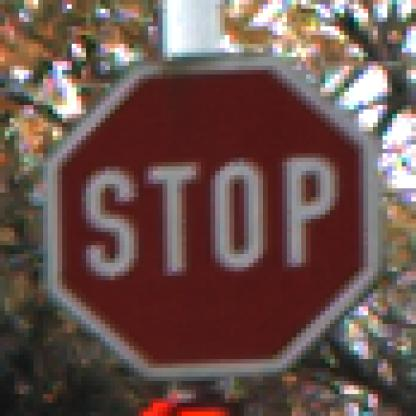stop: (35, 50, 398, 385)
